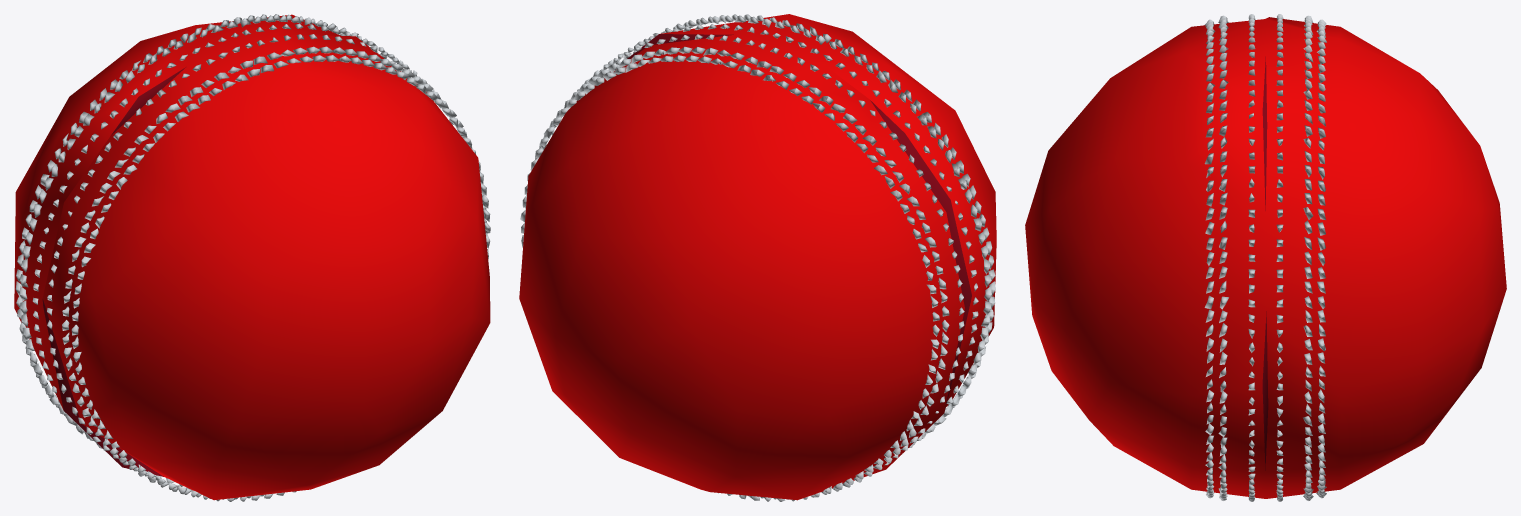
File: Cricket Ball.fbx
The picture shows the model from 3 angles, left to right: view 1: azimuth 30°, elevation 25°; view 2: azimuth 150°, elevation 25°; view 3: azimuth 270°, elevation 25°; orthographic projection.
Visible parts, largest first — view 1: Sphere; view 2: Sphere; view 3: Sphere.
Boxes of the visible parts, x1,y1,x2,y2 form: Sphere: (14,14,490,501); Sphere: (519,14,996,501); Sphere: (1025,14,1506,501).
Size of the model in its own units: 203 by 201 by 199.
